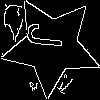J: (26, 21, 73, 51)
